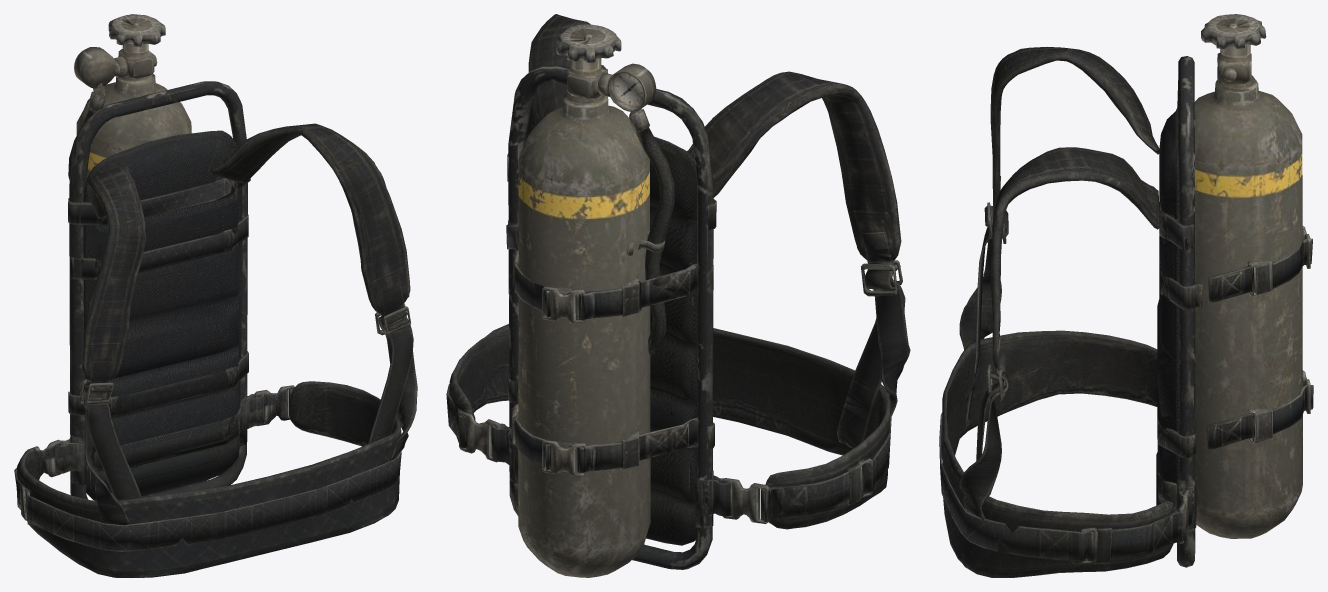
The model's file is gear-airtank-backpack.glb.
3 renders of one model, left to right at view 1: azimuth 30°, elevation 25°; view 2: azimuth 150°, elevation 25°; view 3: azimuth 270°, elevation 25°, orthographic. The views are drawn at different scales.
Visible parts, largest first — view 1: gear-airtank-backpack; view 2: gear-airtank-backpack; view 3: gear-airtank-backpack.
Part boxes in pixels (x1,y1,x2,y2): gear-airtank-backpack: [14, 14, 417, 577]; gear-airtank-backpack: [446, 14, 910, 577]; gear-airtank-backpack: [939, 14, 1313, 577].
Size of the model in its own units: 0.5773 by 0.72 by 0.4783.
1 material, 1 textured.
